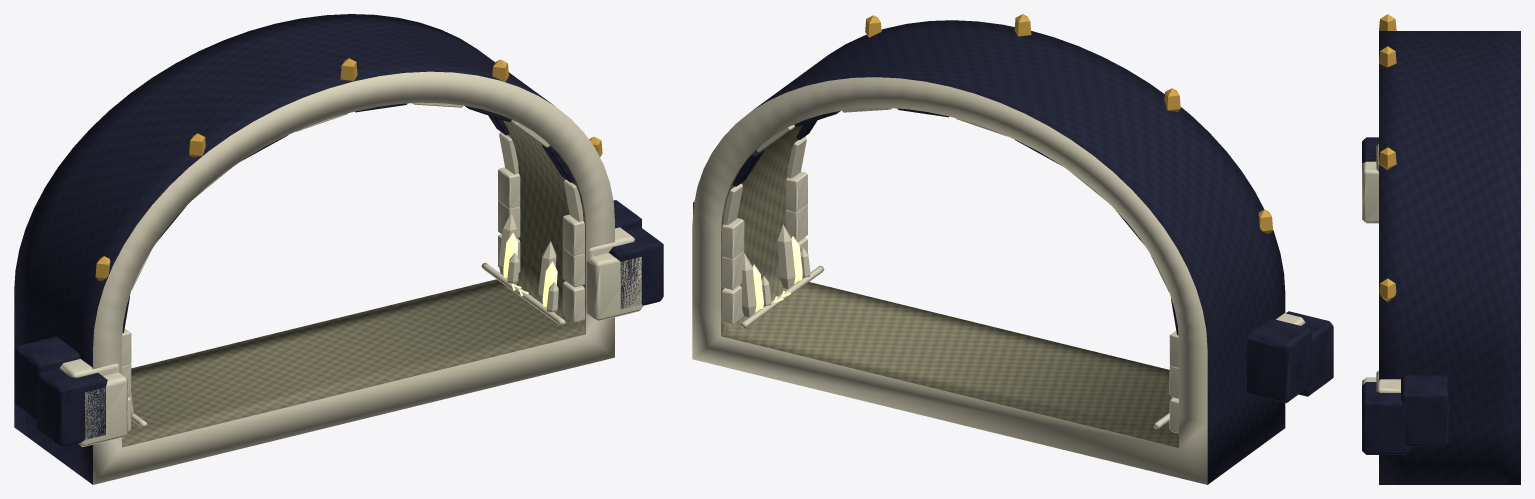
File: portal_entry_lod1.glb
3 renders of one model, left to right at view 1: azimuth 30°, elevation 25°; view 2: azimuth 150°, elevation 25°; view 3: azimuth 270°, elevation 25°, orthographic. The views are drawn at different scales.
Visible parts, largest first — view 1: TunnelGeometry.001; view 2: TunnelGeometry.001; view 3: TunnelGeometry.001.
Part boxes in pixels (x1=…): TunnelGeometry.001: x1=14, y1=14, x2=663, y2=484; TunnelGeometry.001: x1=692, y1=14, x2=1333, y2=484; TunnelGeometry.001: x1=1362, y1=14, x2=1520, y2=484.
Bounding box in the file's own units: 17.75 × 10.07 × 4.47.
5 materials, 2 textured.
